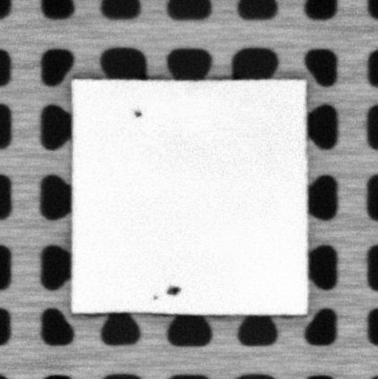DIE_INK: (164, 285, 183, 295), (132, 107, 144, 119), (150, 293, 160, 301)
